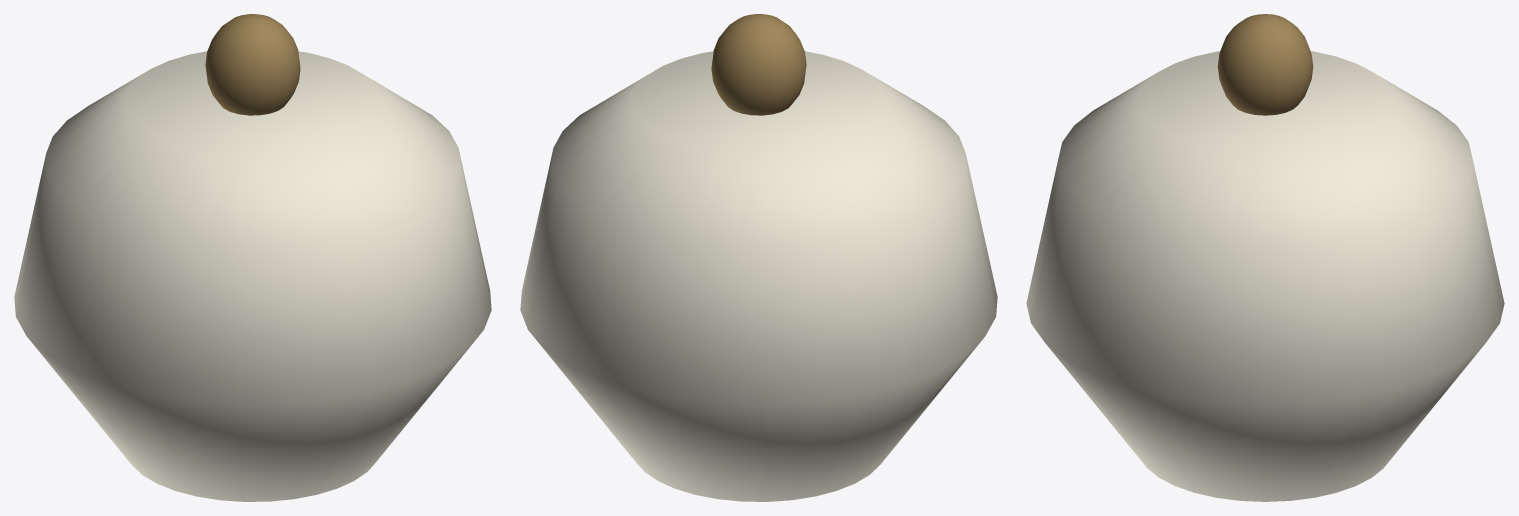
Rendered from Sugar_Bowl.fbx.
The picture shows the model from 3 angles, left to right: view 1: azimuth 30°, elevation 25°; view 2: azimuth 150°, elevation 25°; view 3: azimuth 270°, elevation 25°; orthographic projection.
Parts seen in each view (by area): view 1: Sugar bowl.001, Sugar lid knob.001; view 2: Sugar bowl.001, Sugar lid knob.001; view 3: Sugar bowl.001, Sugar lid knob.001.
Part boxes in pixels (x1,y1,x2,y2): Sugar bowl.001: [14, 51, 491, 501]; Sugar lid knob.001: [205, 14, 300, 115]; Sugar bowl.001: [520, 51, 997, 501]; Sugar lid knob.001: [711, 14, 806, 115]; Sugar bowl.001: [1026, 51, 1504, 501]; Sugar lid knob.001: [1217, 14, 1313, 115].
Bounding box in the file's own units: 0.15 × 0.149 × 0.15.
